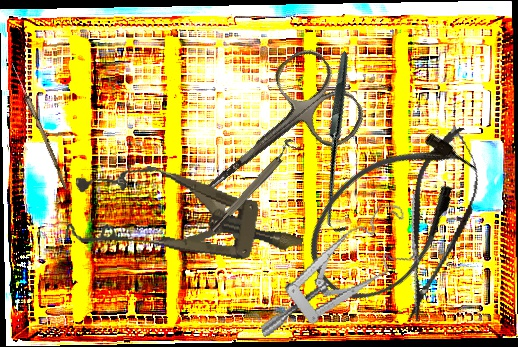Cannula: (284, 108, 497, 323)
Fixation Ring: (205, 136, 301, 235)
Hook Surgical: (249, 51, 435, 236)
Iris Scissors: (162, 41, 373, 237)
Micro Scissor: (383, 120, 493, 328)
Speculum: (63, 153, 312, 287), (239, 199, 429, 338)
Surgical Spoon: (8, 62, 71, 190)
